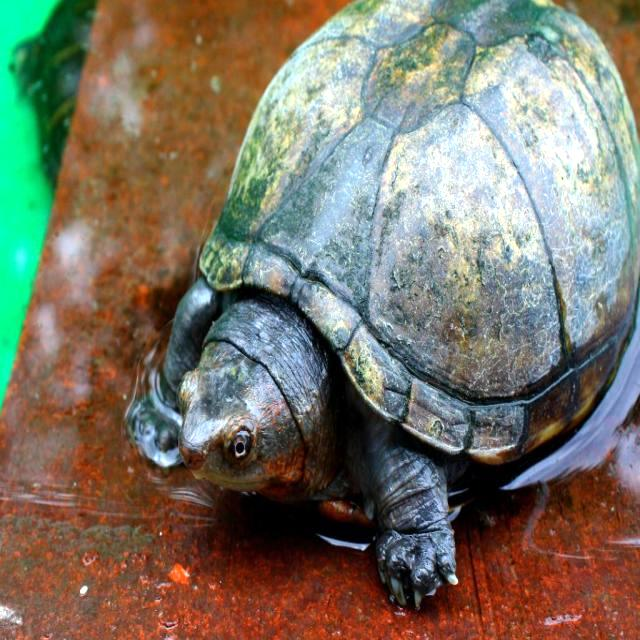Sea turtle: (129, 1, 640, 614)
